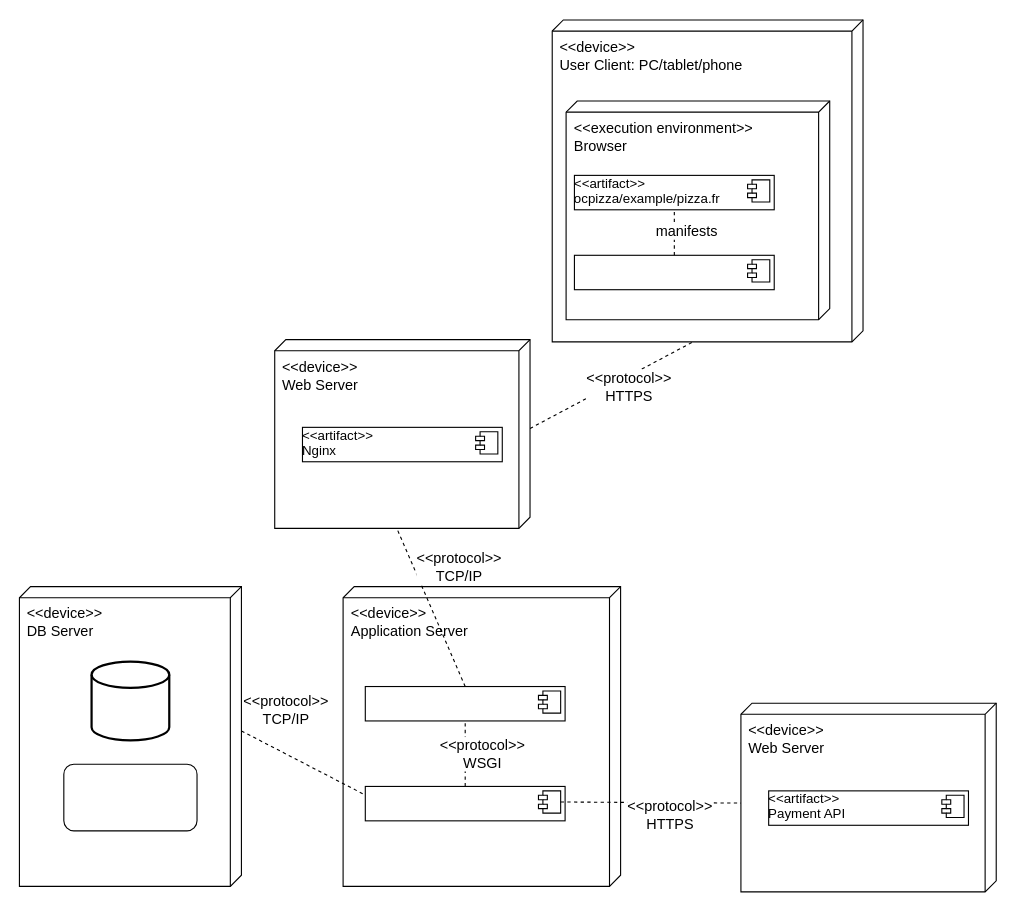
The diagram is 1016 pixels wide and 911 high, and some of its shapes have lost their labels. The centre of each missing label's shape, as x and y in pixels:
"<<artifact>> Django App" goes at [464,803].
"<<artifact>> Gunicorn" goes at [464,703].
"<<execution environment>> MySQL DB" goes at [130,797].
"<<subsystem>> WebStore" goes at [673,272].
"Database" goes at [130,700].
